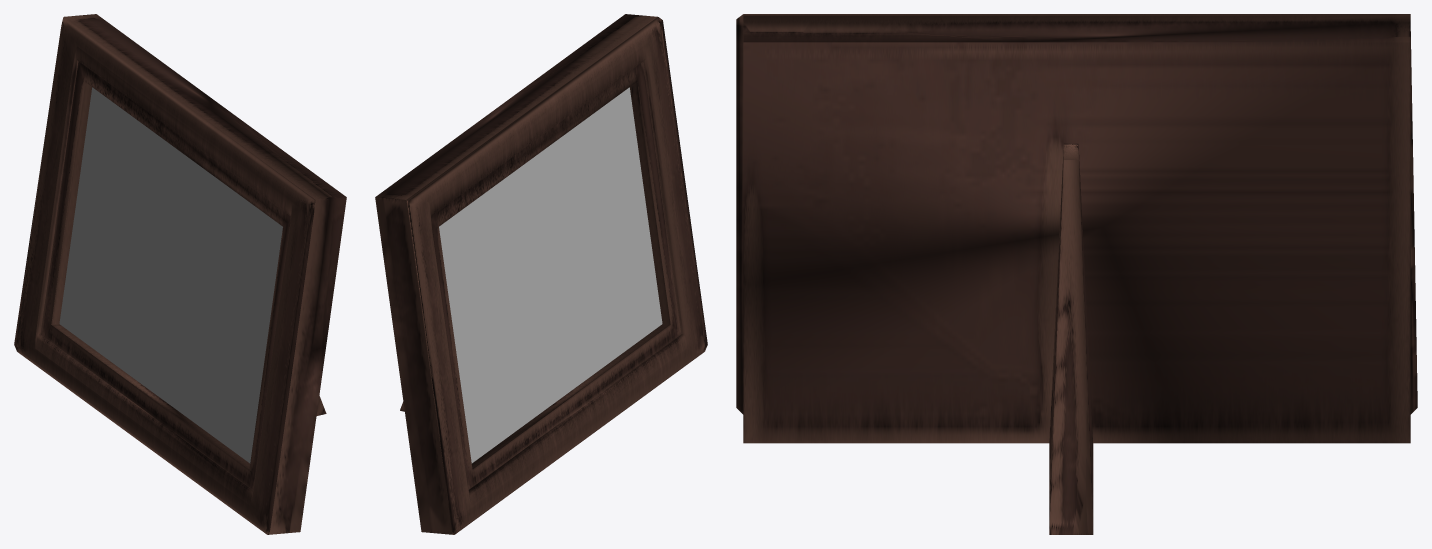
The model's file is photoframe (1).fbx.
3 renders of one model, left to right at view 1: azimuth 30°, elevation 25°; view 2: azimuth 150°, elevation 25°; view 3: azimuth 270°, elevation 25°, orthographic. The views are drawn at different scales.
Visible parts, largest first — view 1: Cube.022, Cube.007; view 2: Cube.022, Cube.007; view 3: Cube.022.
Part boxes in pixels (x1,y1,x2,y2): Cube.022: (14, 14, 346, 534); Cube.007: (59, 87, 282, 463); Cube.022: (375, 14, 707, 534); Cube.007: (439, 87, 662, 463); Cube.022: (736, 14, 1417, 534).
Bounding box in the file's own units: 13.75 × 24.76 × 34.91.
2 materials, 2 textured.
